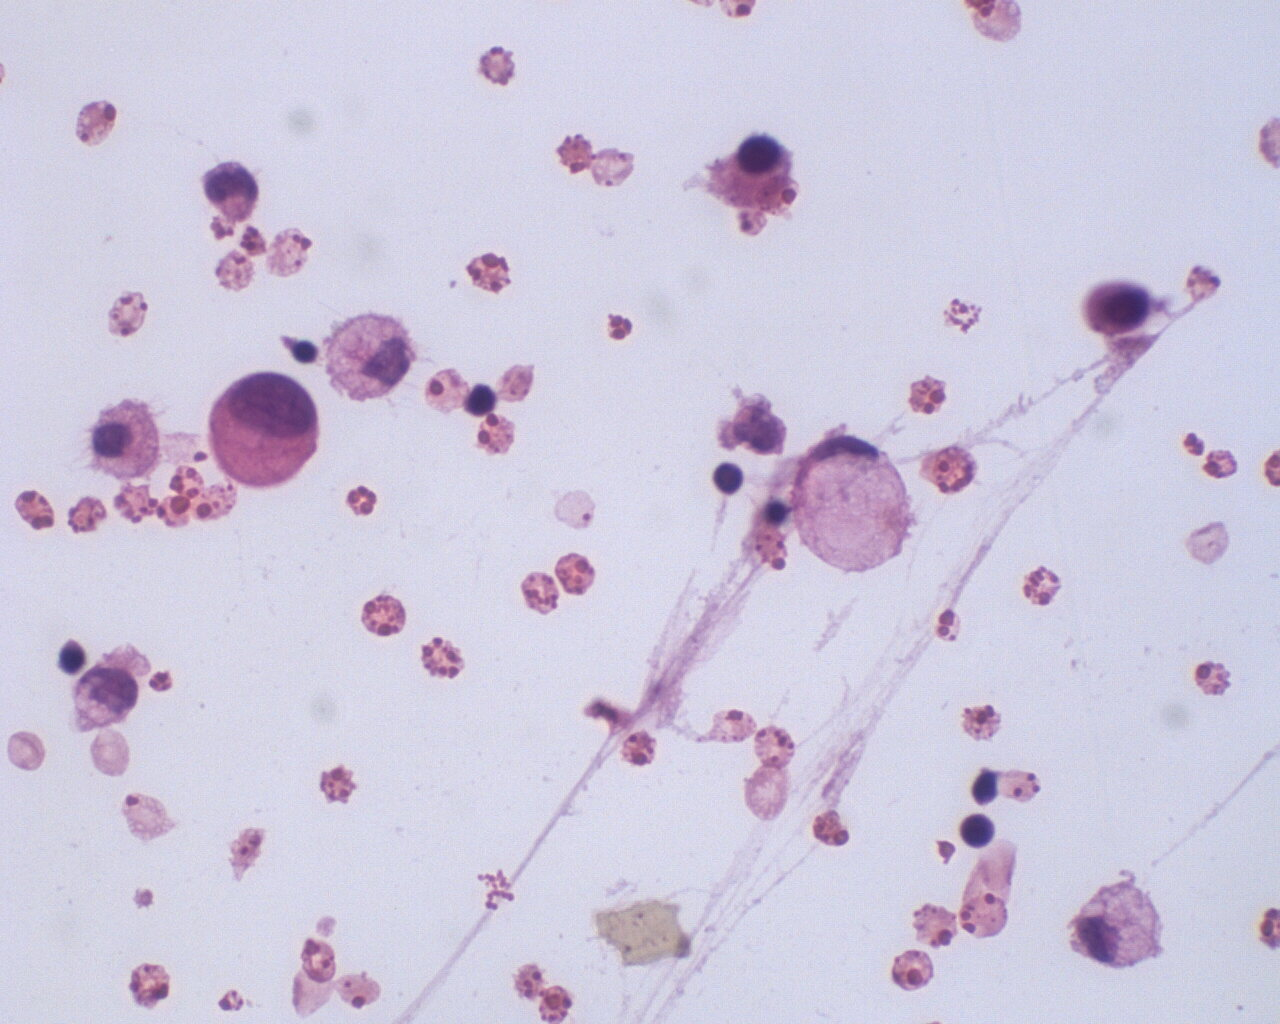histo: (797, 426, 918, 577), (321, 307, 421, 408), (1067, 875, 1164, 976)
lymph: (955, 808, 998, 851)
meso: (204, 369, 331, 498), (89, 394, 164, 483)
